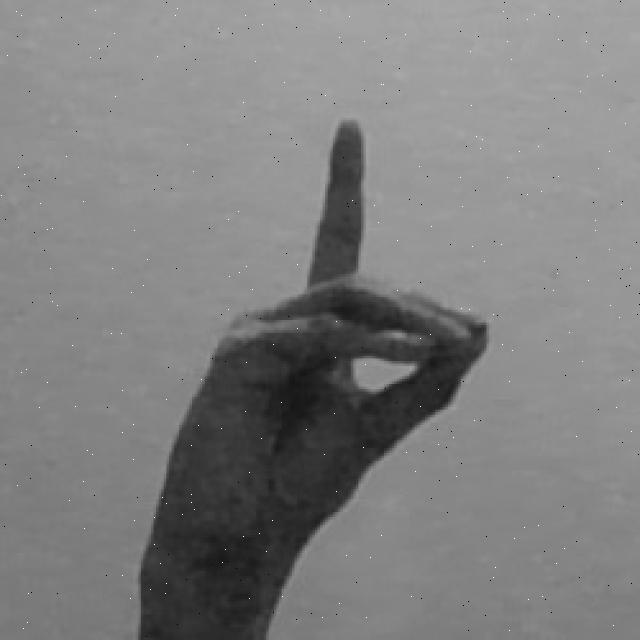D: (131, 112, 491, 640)
